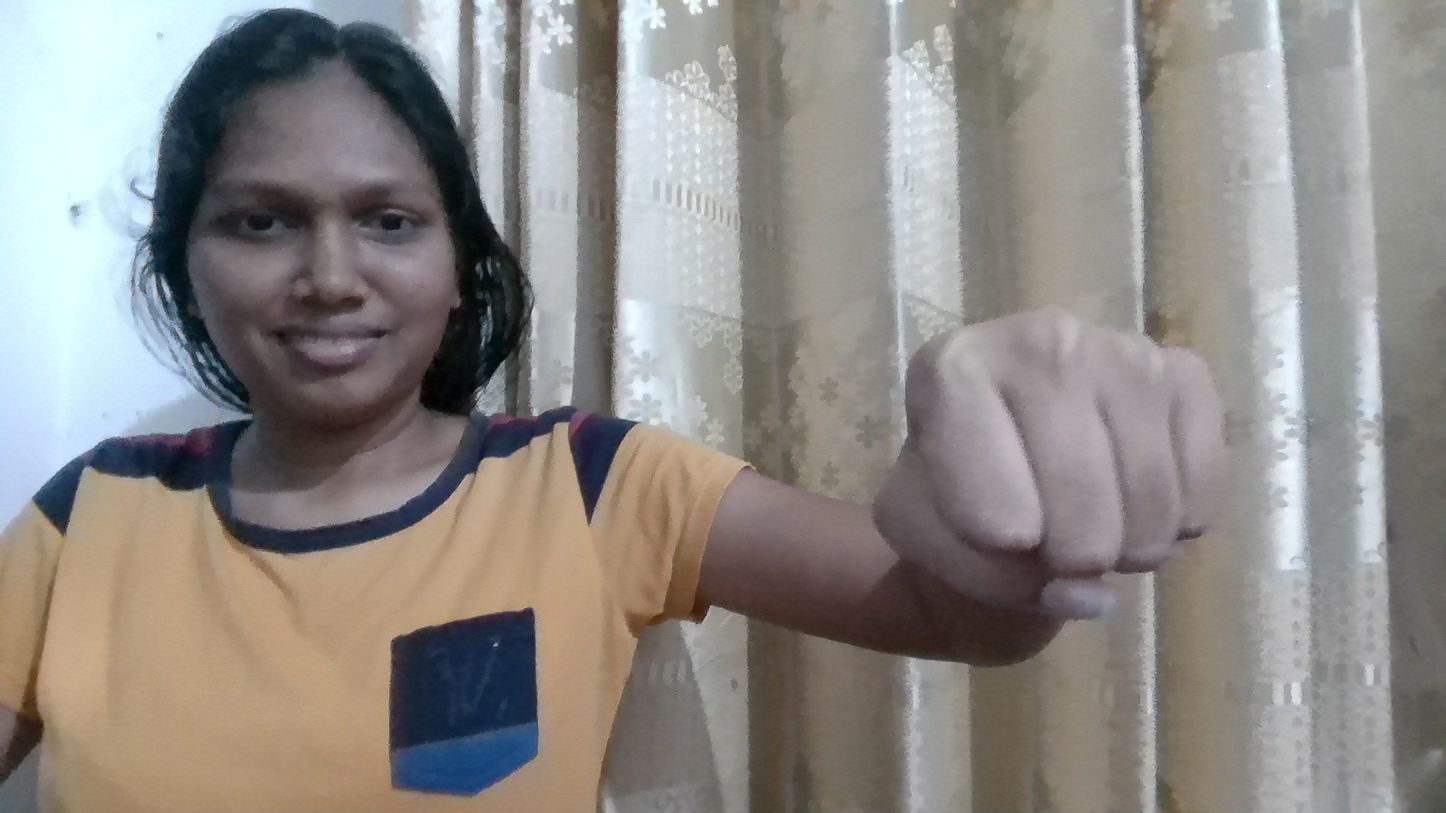Yes: (759, 260, 1303, 698)
